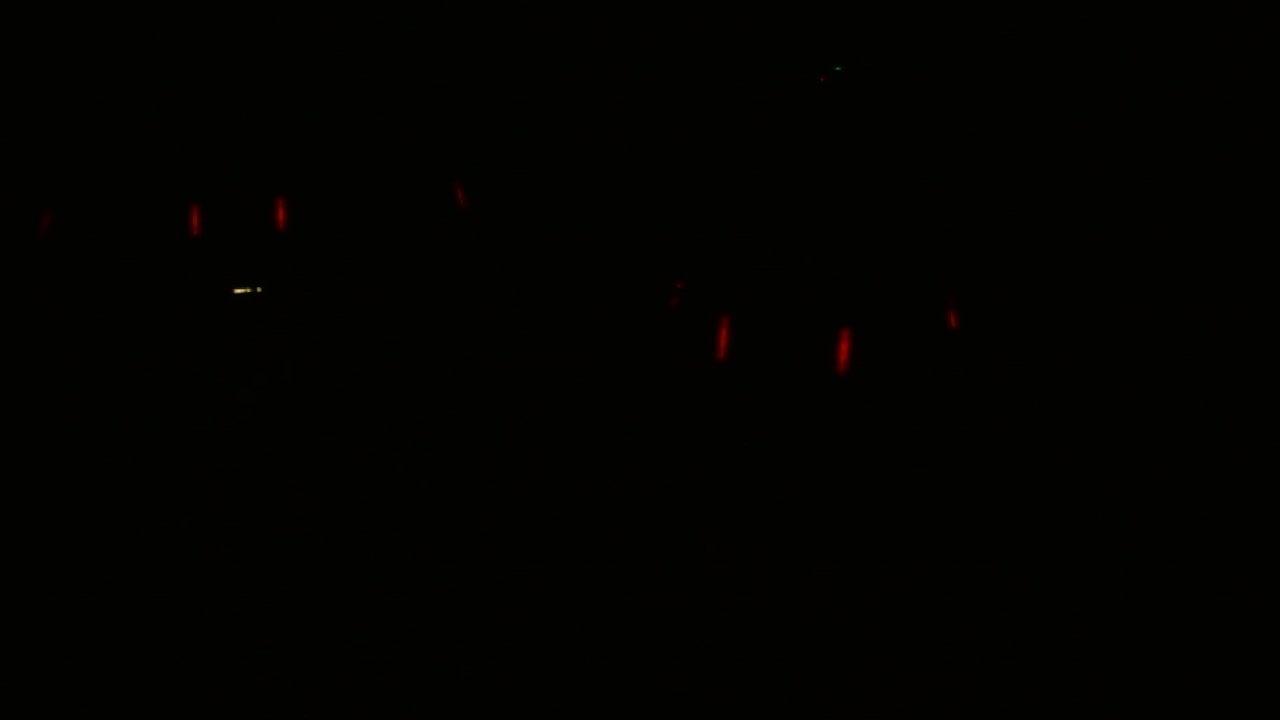pair1: (184, 187, 293, 245)
pair2: (700, 305, 861, 384)
